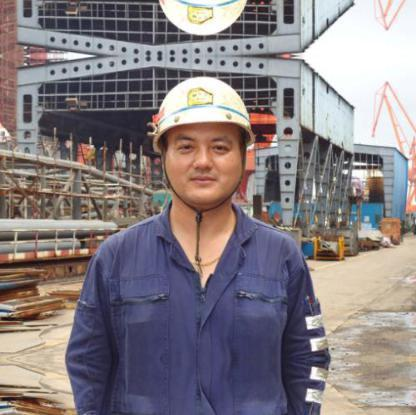helmet: (144, 67, 263, 157)
